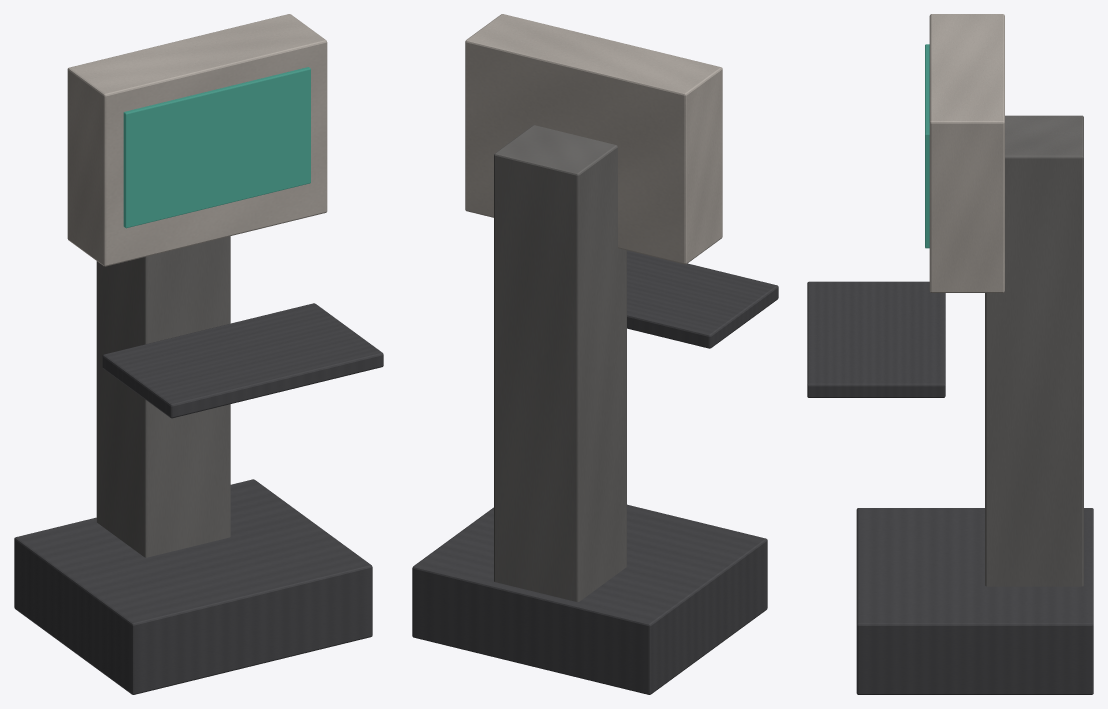
The model's file is diagnostics_station.glb.
3 renders of one model, left to right at view 1: azimuth 30°, elevation 25°; view 2: azimuth 150°, elevation 25°; view 3: azimuth 270°, elevation 25°, orthographic.
Visible parts, largest first — view 1: base.005, column, display_housing, display.007, keyboard_tray; view 2: column, display_housing, base.005, keyboard_tray; view 3: column, base.005, display_housing, keyboard_tray, display.007.
Boxes of the visible parts, box(x1,y1,x2,y2) form: base.005: box(14, 479, 372, 694); column: box(96, 236, 230, 557); display_housing: box(67, 14, 327, 266); display.007: box(123, 67, 310, 228); keyboard_tray: box(102, 303, 383, 418); column: box(494, 125, 626, 601); display_housing: box(465, 14, 722, 264); base.005: box(412, 504, 767, 694); keyboard_tray: box(627, 250, 778, 348); column: box(985, 115, 1083, 586); base.005: box(856, 508, 1093, 694); display_housing: box(929, 14, 1004, 292); keyboard_tray: box(807, 281, 945, 397); display.007: box(925, 44, 929, 248).
Size of the model in its own units: 0.7 by 1.59 by 0.725.
4 materials, 3 textured.
